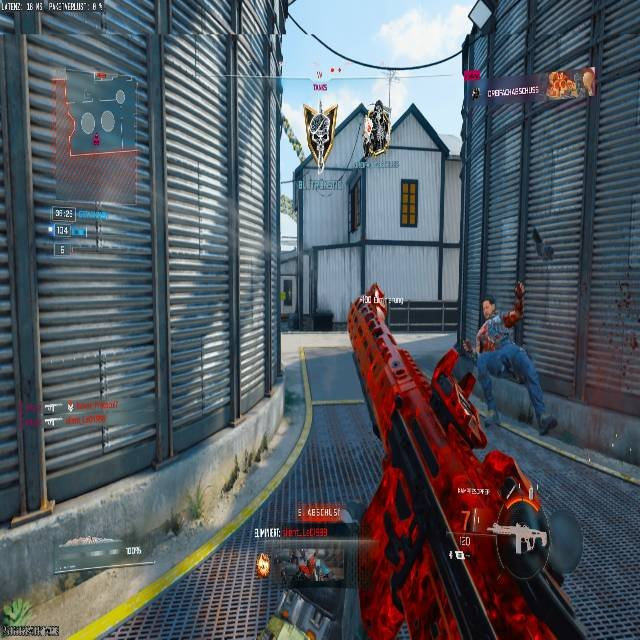head: (480, 298, 496, 319)
player: (474, 282, 558, 436)
